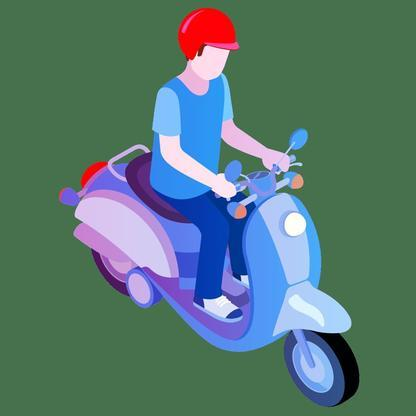target: (50, 5, 369, 413)
